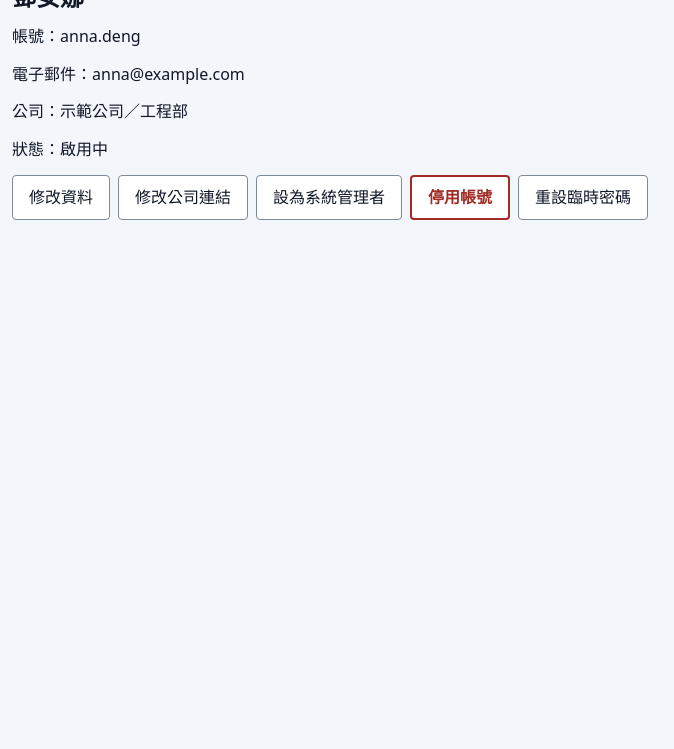
Scenario: 使用者公司連結 共用表單 › 存檔失敗後取消再開表單會清除舊錯誤
This screenshot has width=674, height=749.
Click the button "修改公司連結". click: {"x": 183, "y": 197}
box: [118,175,248,220]
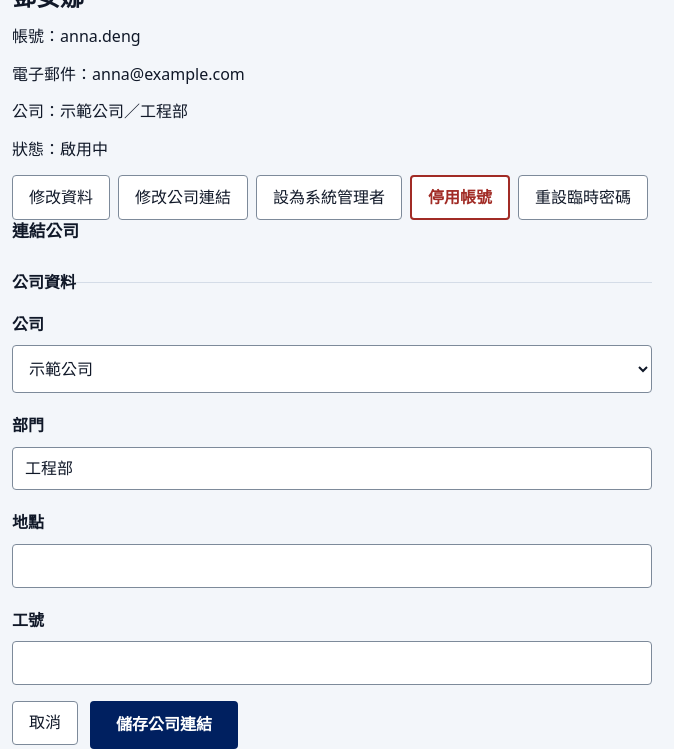
Select "未連結公司" in the dropdown labelled "公司". click: {"x": 332, "y": 369}
box: [12,345,652,393]
(page scrolled)
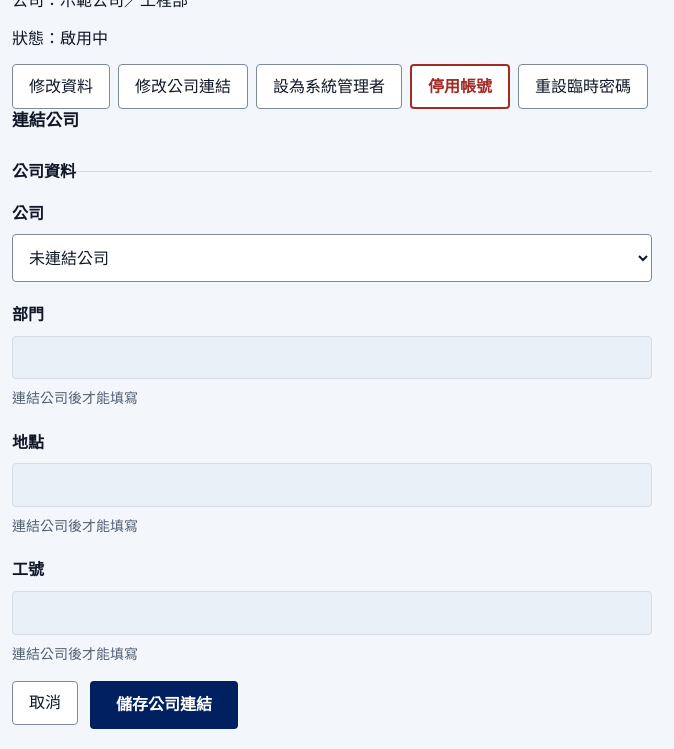
Click the button "儲存公司連結". click: {"x": 164, "y": 705}
box: [90,681,238,729]
(page scrolled)
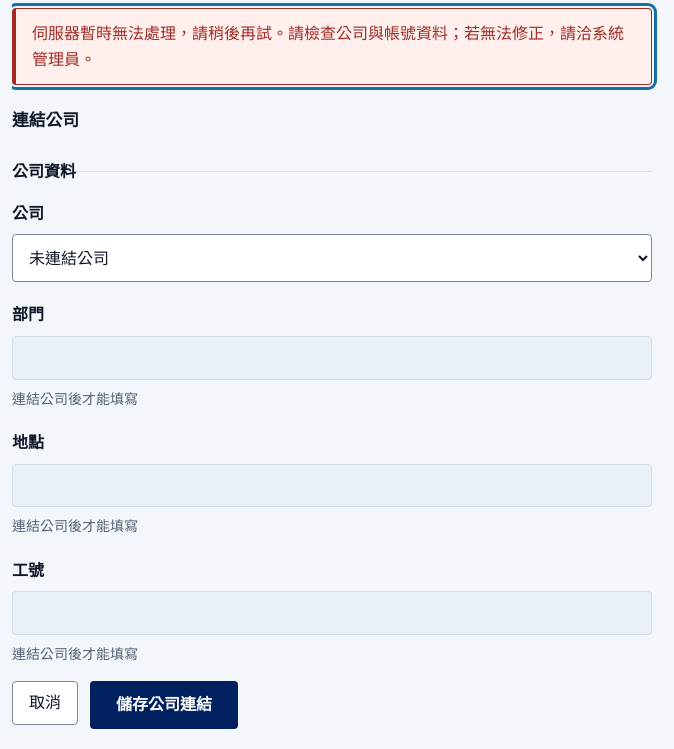
Now the message "伺服器暫時無法處理，請稍後再試。請檢查公司與帳號資料；若無法修正，請洽系統管理員。" is shown, box [12,8,652,85]
Click the button "取消". click: {"x": 45, "y": 703}
box: [12,681,78,725]
(page scrolled)
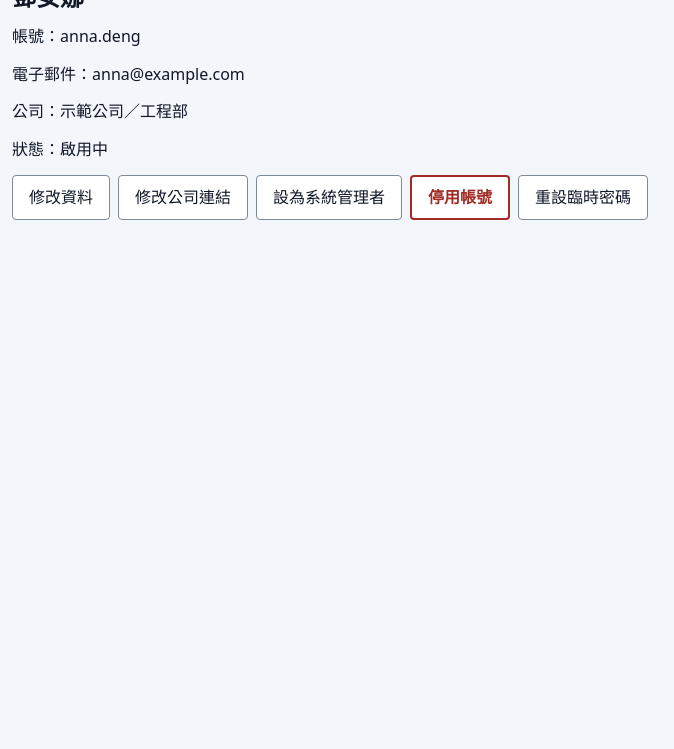
Click the button "修改公司連結". click: {"x": 183, "y": 197}
box: [118,175,248,220]
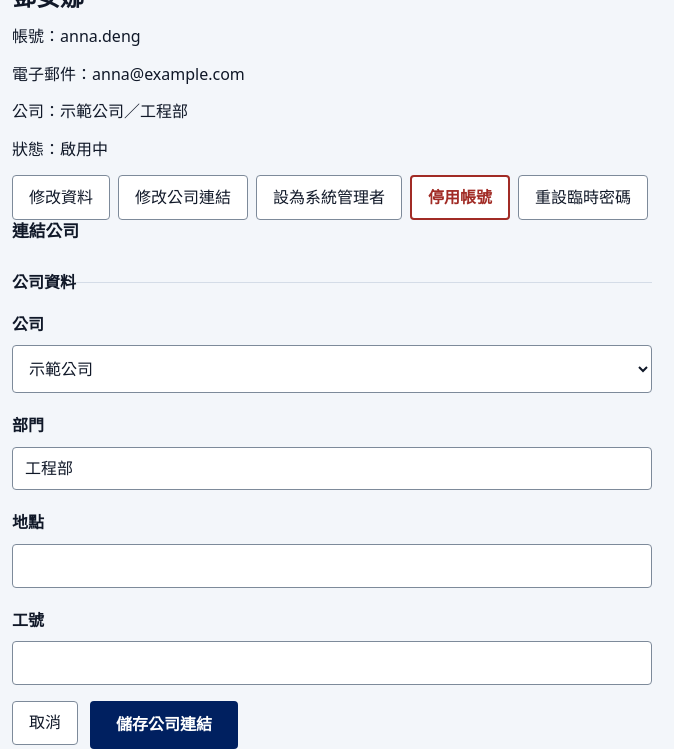
Expected: the message "伺服器暫時無法處理，請稍後再試。請檢查公司與帳號資料；若無法修正，請洽系統管理員。" is not shown
Now the button "儲存公司連結" is shown, box [90,701,238,748]
